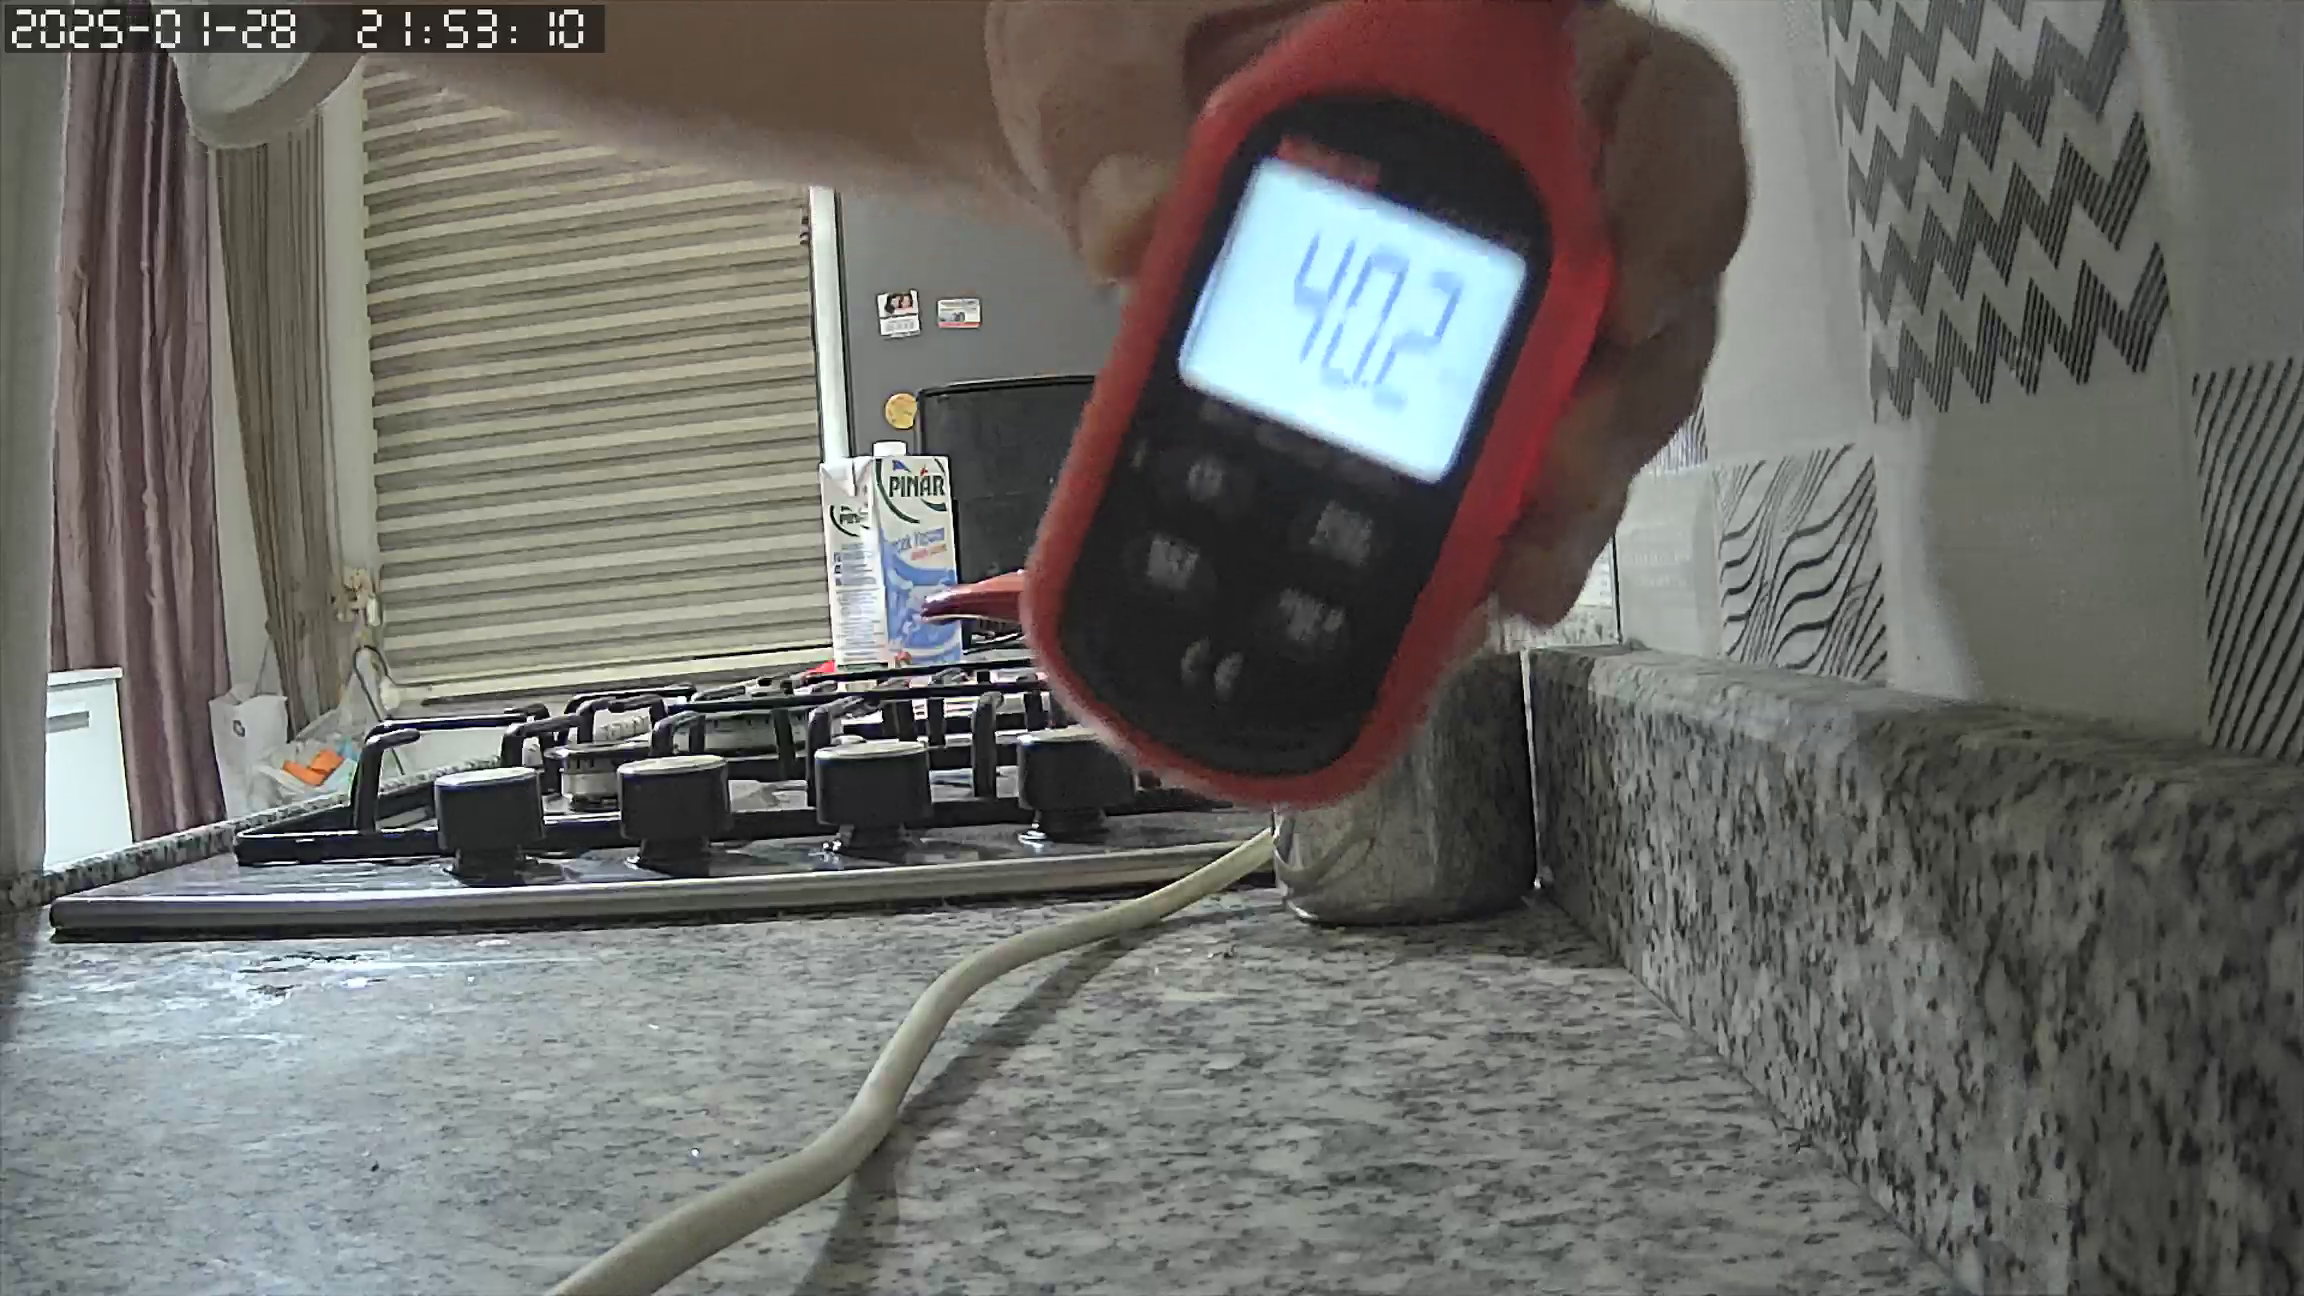screen: (1177, 152, 1524, 487)
